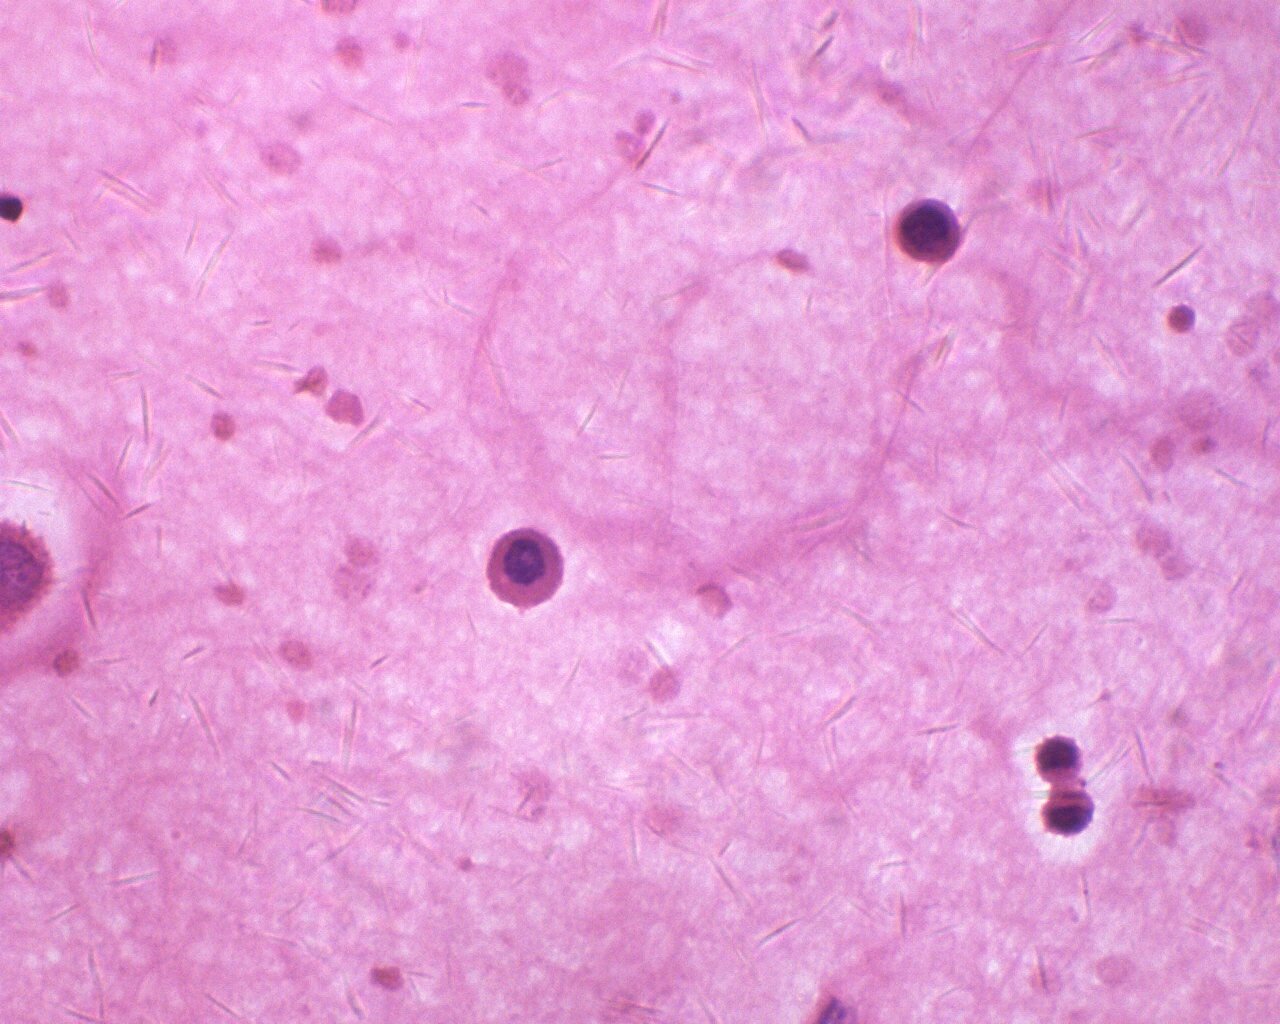ab: (890, 193, 971, 272), (1037, 784, 1101, 837), (1030, 730, 1088, 786)
meso: (482, 523, 571, 610)
